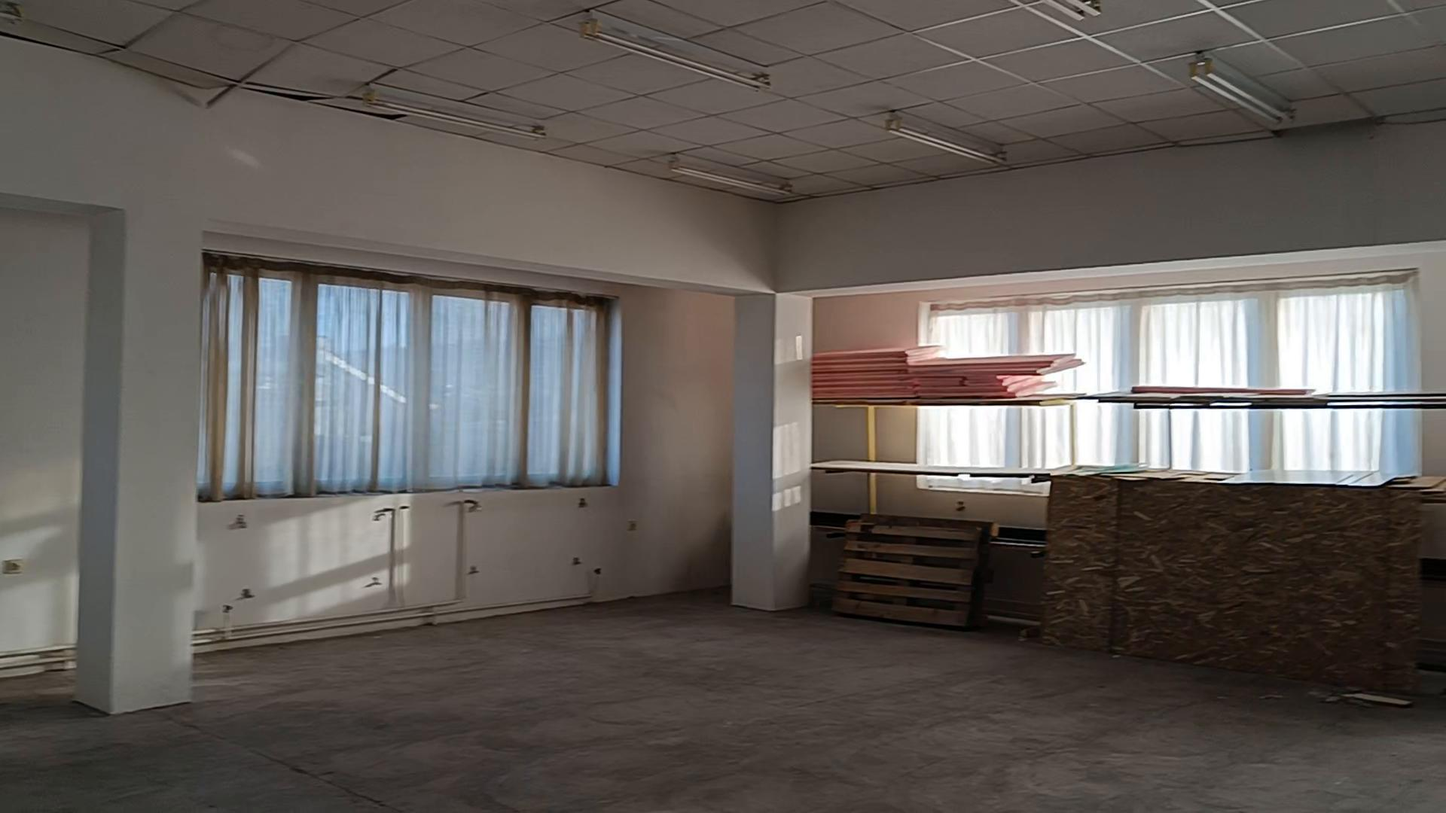ceiling: (0, 0, 1445, 199)
floor: (0, 595, 1445, 812)
wall: (4, 46, 1445, 709), (196, 300, 739, 641), (0, 203, 93, 650)
